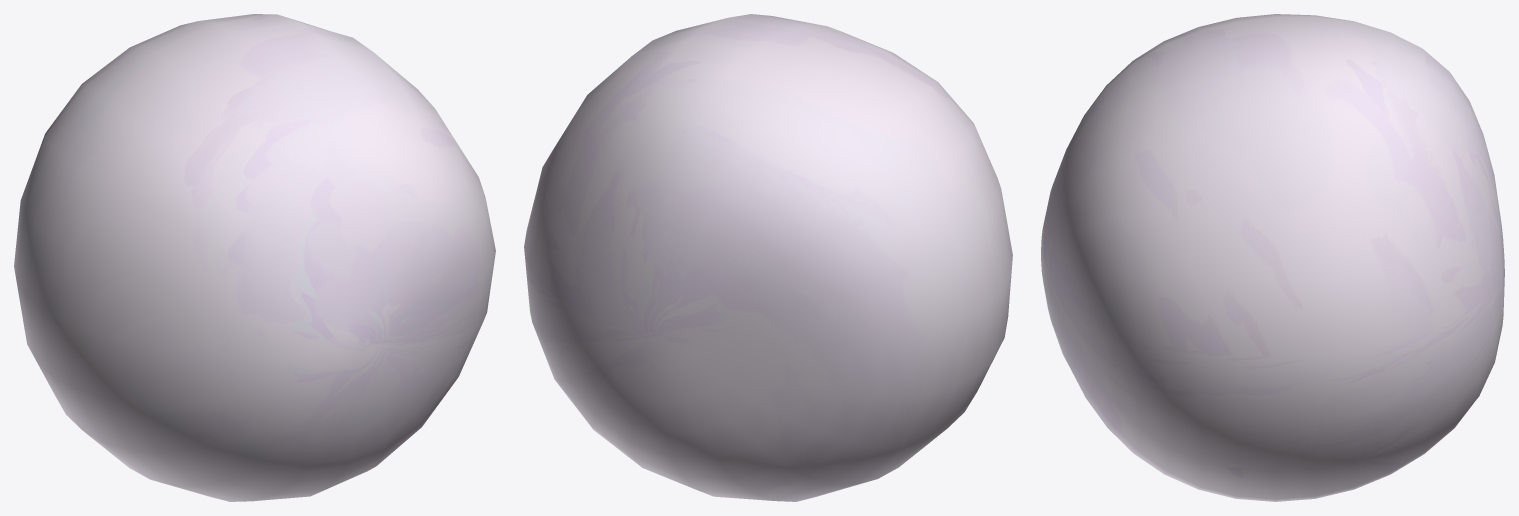
Rendered from Snowball.fbx.
3 views of the same model, side by side, from view 1: azimuth 30°, elevation 25°; view 2: azimuth 150°, elevation 25°; view 3: azimuth 270°, elevation 25° (orthographic). The views are drawn at different scales.
Visible parts, largest first — view 1: Snowball; view 2: Snowball; view 3: Snowball.
Part boxes in pixels (x1,y1,x2,y2): Snowball: (14,14,495,501); Snowball: (524,14,1012,501); Snowball: (1041,14,1504,501).
Size of the model in its own units: 44.24 by 43.06 by 40.75.
